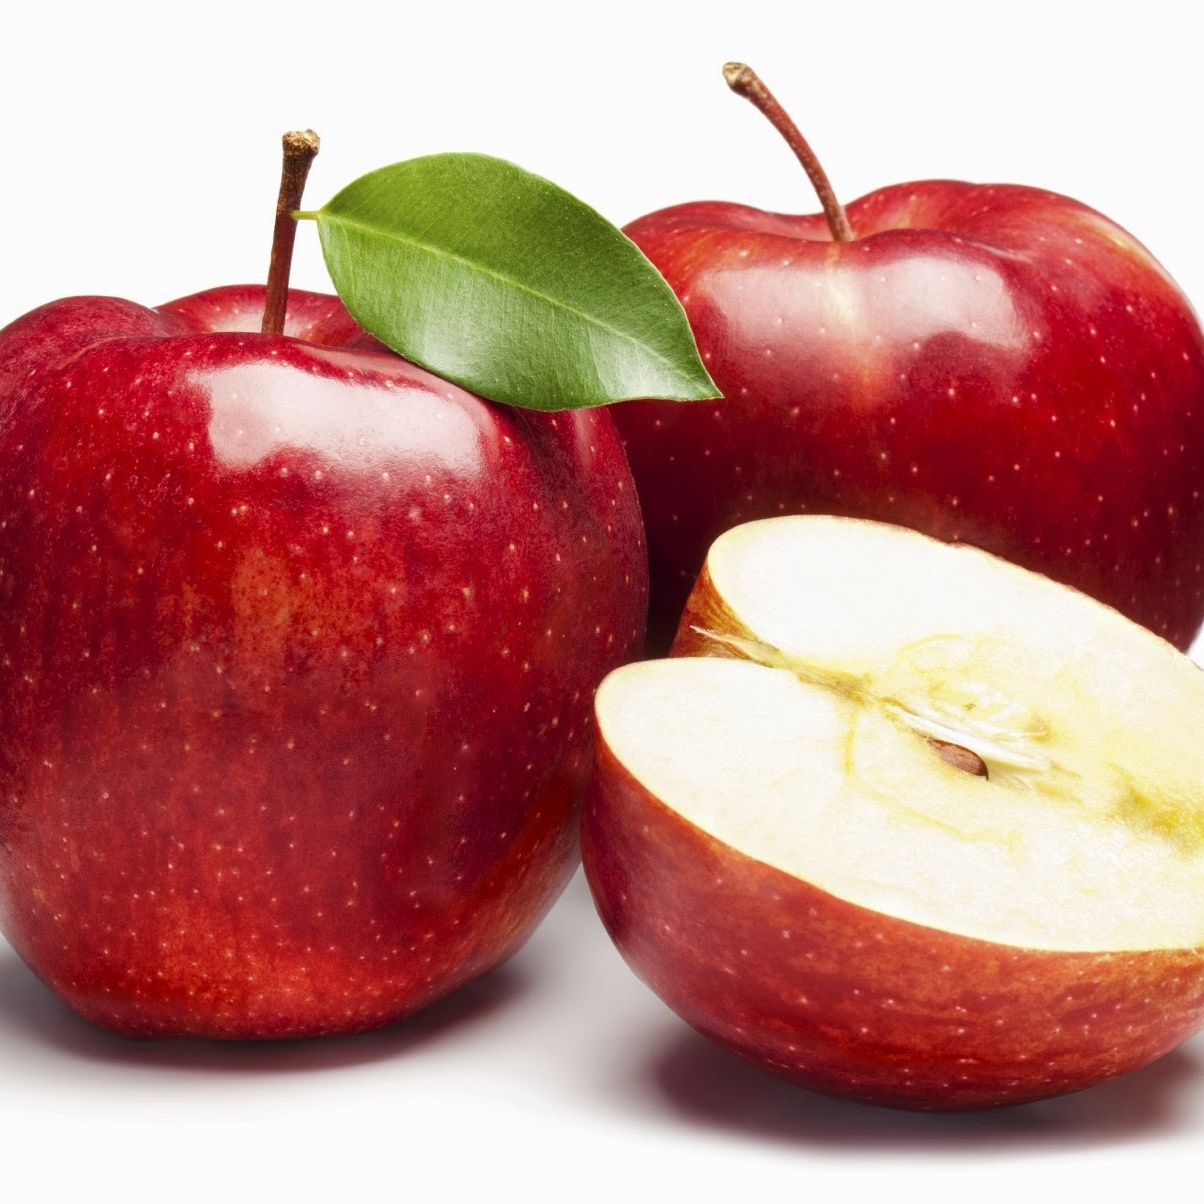apple: (1, 135, 649, 1044), (581, 490, 1204, 1106), (562, 58, 1204, 656)
